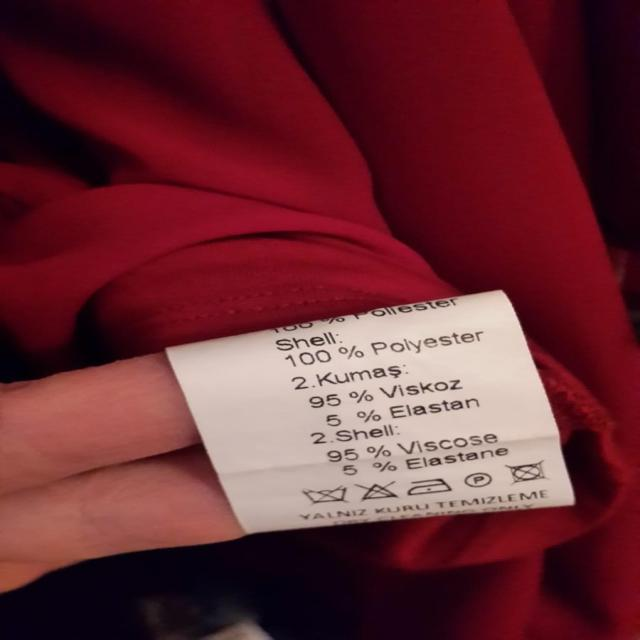DN_bleach: (356, 479, 398, 502)
DN_tumble_dry: (507, 460, 545, 485)
DN_wash: (304, 482, 349, 509)
dry_clean_any_solvent_except_trichloroethylene: (461, 469, 496, 492)
iron_low: (407, 473, 453, 498)
